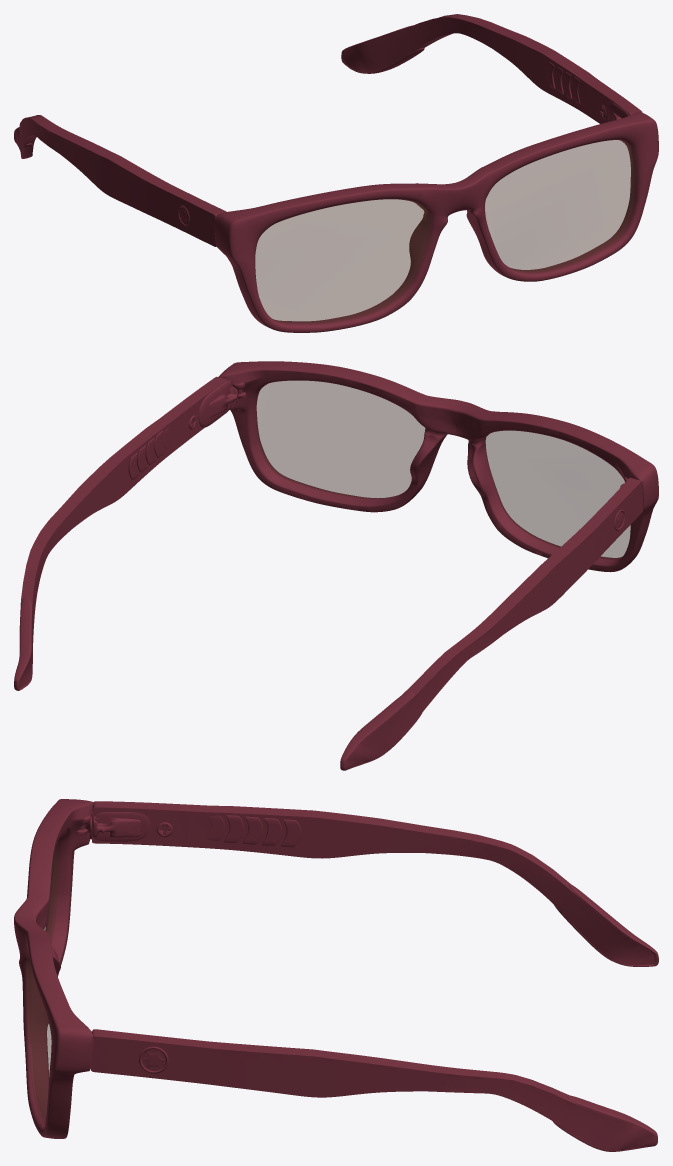
Rendered from optik-numarali-bordo.glb.
The picture shows the model from 3 angles, top to bottom: view 1: azimuth 30°, elevation 25°; view 2: azimuth 150°, elevation 25°; view 3: azimuth 270°, elevation 25°; orthographic projection. The views are drawn at different scales.
Parts seen in each view (by area): view 1: OPTIK_PRODUCT_241; view 2: OPTIK_PRODUCT_241; view 3: OPTIK_PRODUCT_241.
Boxes of the visible parts, x1,y1,x2,y2 form: OPTIK_PRODUCT_241: (14, 14, 658, 332); OPTIK_PRODUCT_241: (14, 361, 658, 770); OPTIK_PRODUCT_241: (14, 799, 658, 1151).
Bounding box in the file's own units: 0.1338 × 0.0389 × 0.1481.
